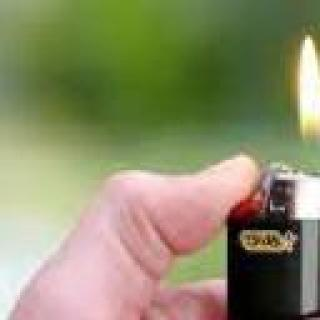fire: (297, 35, 320, 160)
